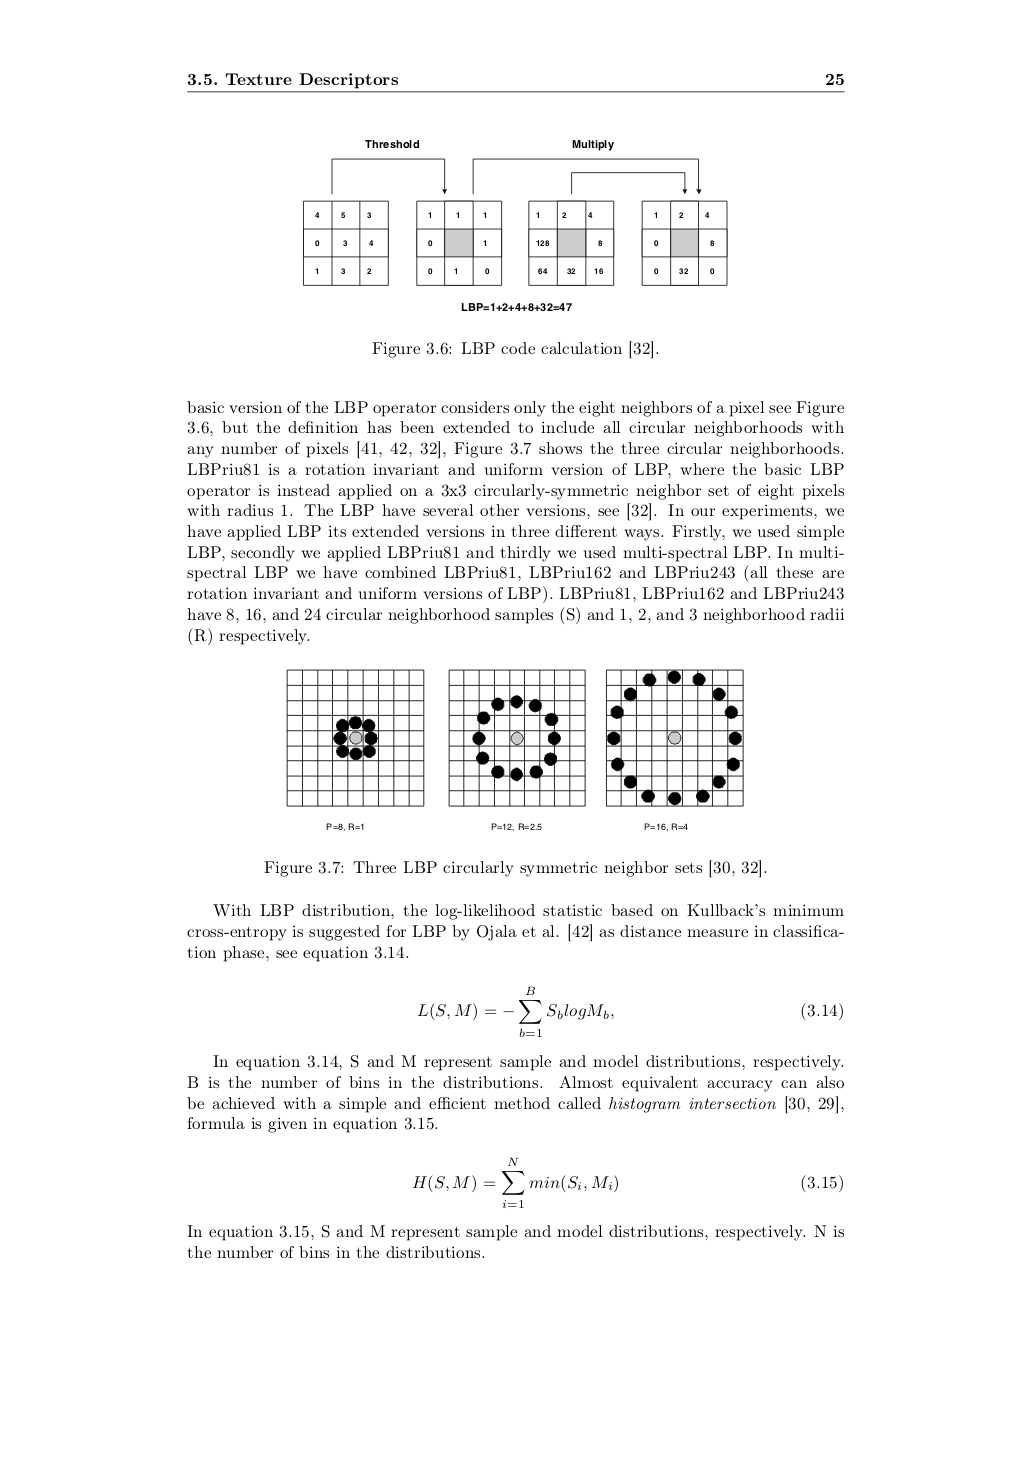figure: (303, 141, 728, 311), (286, 669, 424, 806), (606, 669, 743, 806), (449, 669, 585, 806)
formula: (417, 986, 842, 1037), (412, 1157, 842, 1207)
